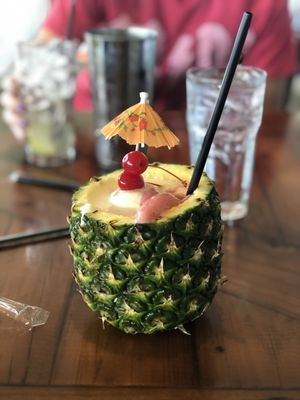pizza: (185, 67, 257, 177)
